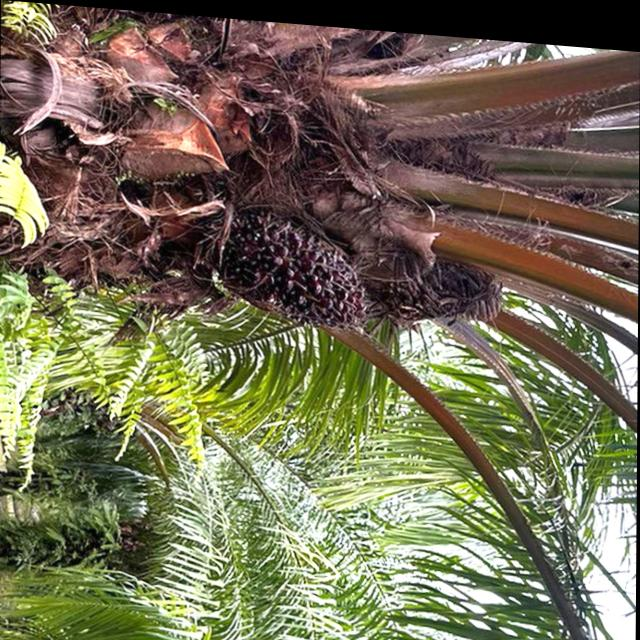ripe: (218, 213, 378, 330)
